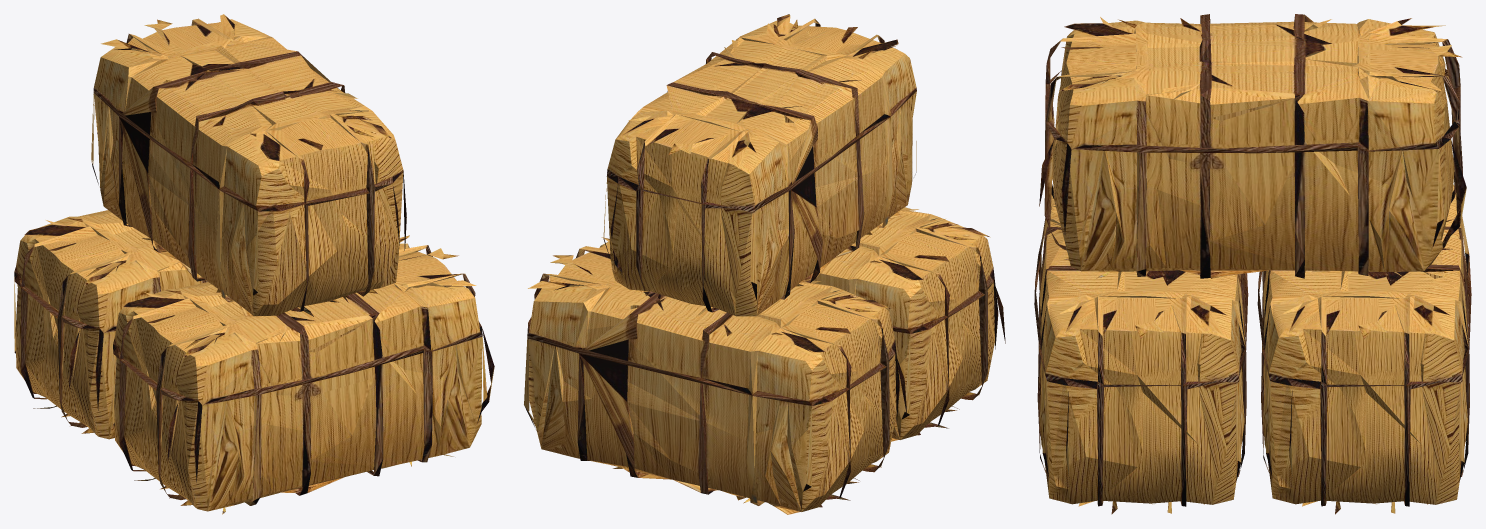
Rendered from hay-stack.glb.
The picture shows the model from 3 angles, left to right: view 1: azimuth 30°, elevation 25°; view 2: azimuth 150°, elevation 25°; view 3: azimuth 270°, elevation 25°; orthographic projection. The views are drawn at different scales.
Bounding box in the file's own units: 0.9 × 0.9 × 0.92.
1 material, 1 textured.
